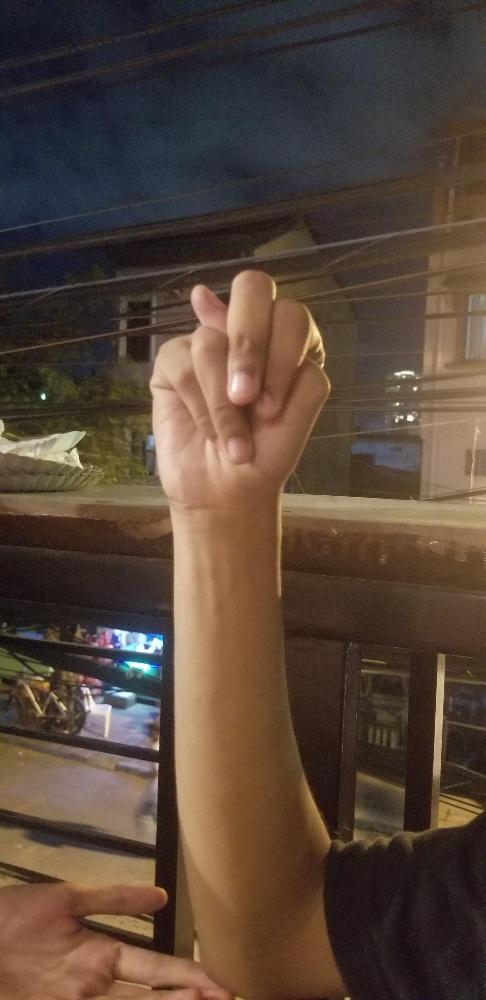n: (149, 270, 331, 487)
